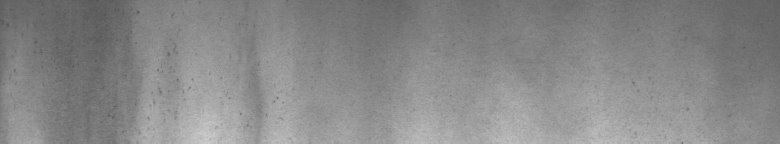ib: (108, 46, 191, 120)
